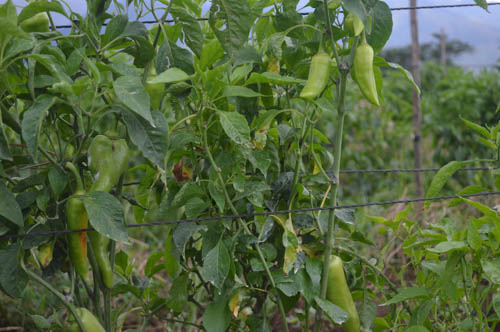ChiliPepper: (86, 135, 130, 198), (323, 255, 359, 329), (68, 193, 92, 278), (299, 52, 332, 108), (87, 222, 114, 289), (353, 43, 380, 109)
